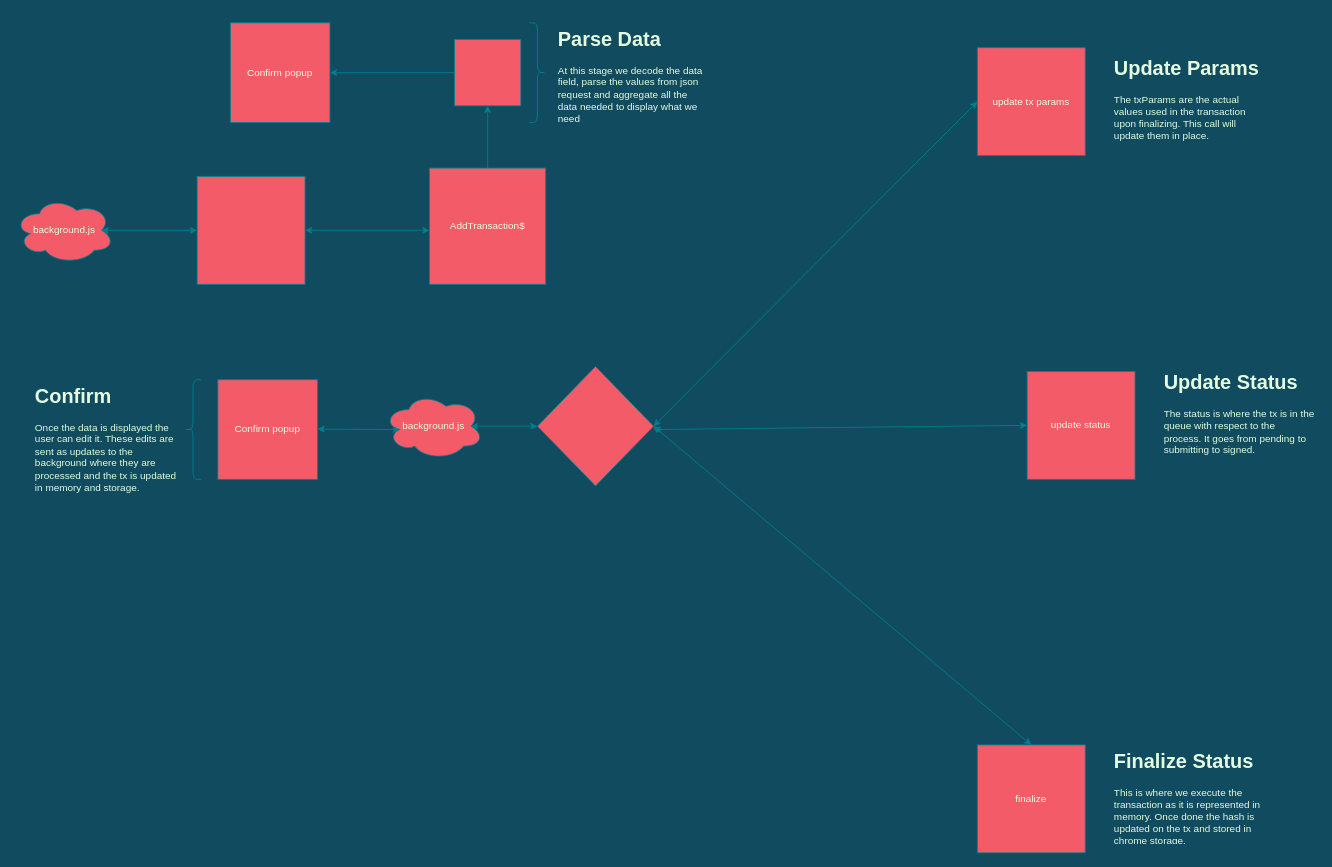
Image size: 1332x867. Some labels were removed from this diagram. The centre of each missing label's shape, as x and y in pixels:
"eth_sendTransaction" goes at point (250, 230).
"Parse" goes at point (487, 72).
"updateTransaction.ts" goes at point (595, 426).
